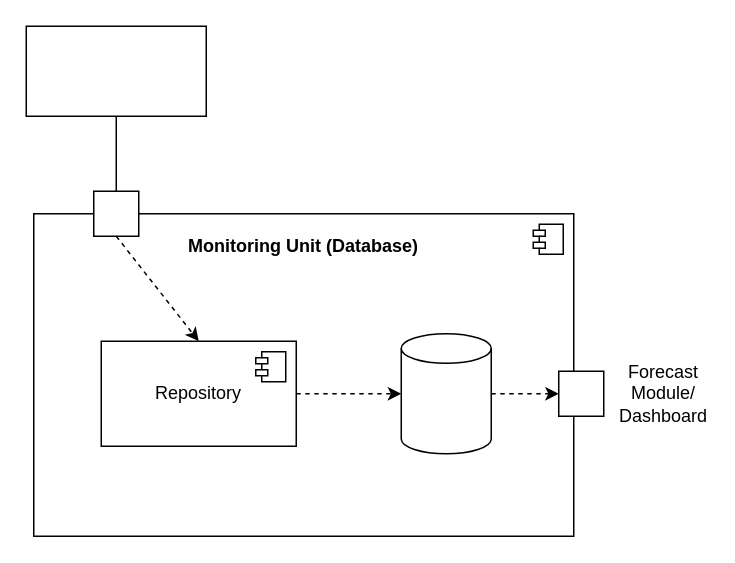
Image size: 735x563. Some labels were removed from this diagram. The shapes that lost their labels are listed below. From the top down, each one's centre as x and y in pixels, then its label:
At point (115, 70): "Data Source".
At point (445, 393): "Time Series DB".
